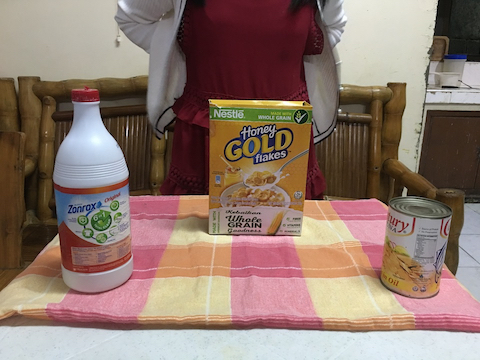bottle: (53, 84, 139, 298)
box: (203, 96, 319, 241)
can: (378, 195, 454, 300)
